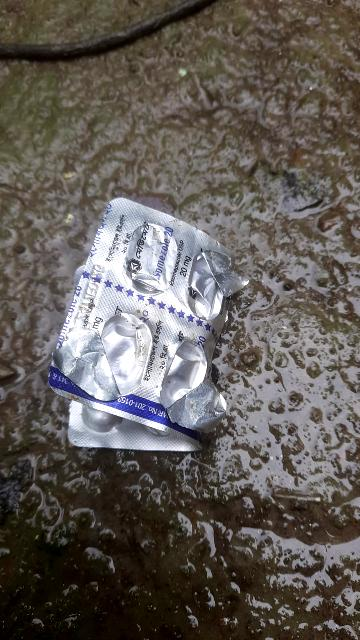medicine: (33, 183, 283, 450)
